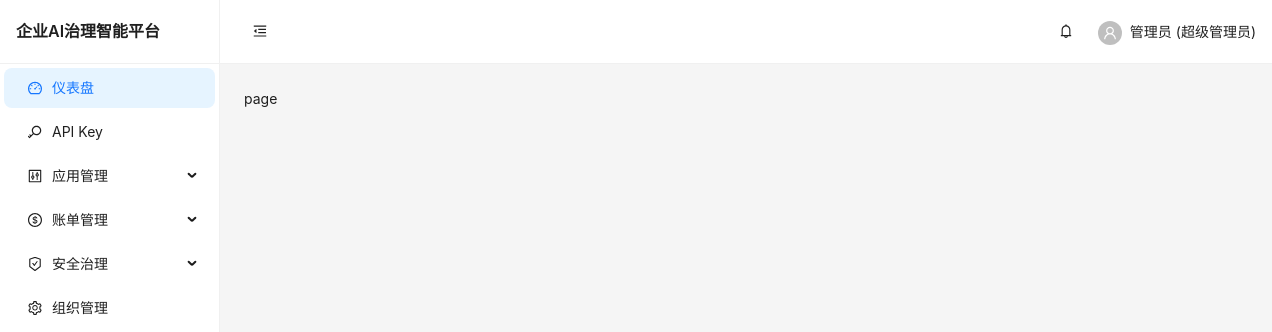
Scenario: AdminLayout › Collapse/Expand sidebar › should show title again when expanded back
Click the 1st button: (260, 32) [244,16,276,48]
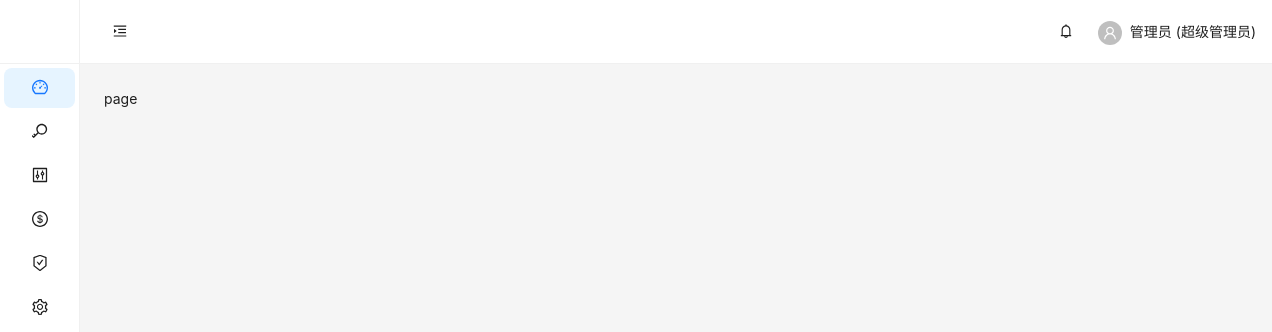
Check: the text "企业AI治理智能平台" is gone
Click the 1st button: (120, 32) [104,16,136,48]
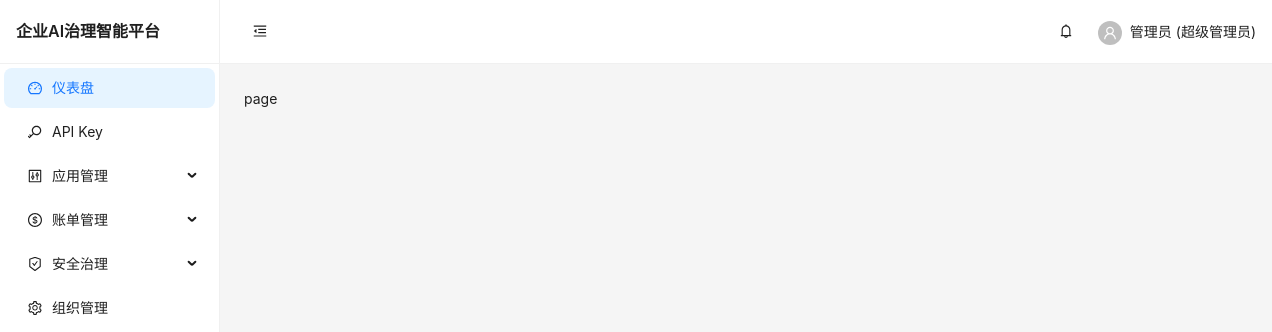
Check: the text "企业AI治理智能平台" is shown, box [16,21,160,41]
